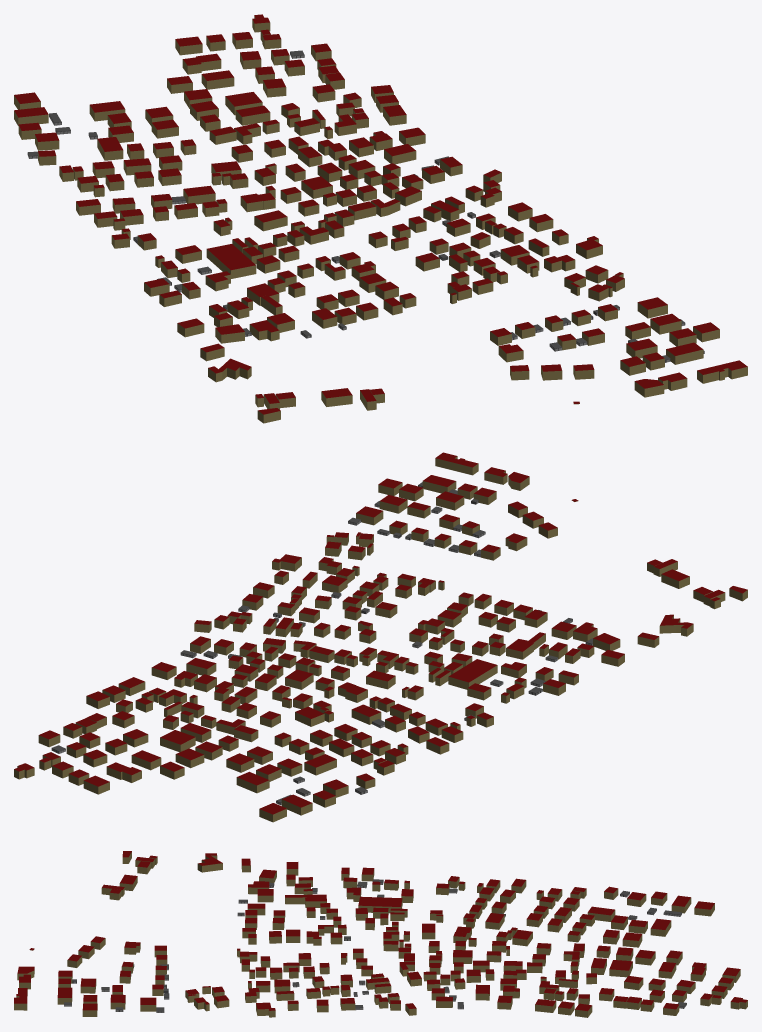
Rendered from Ingolstadt_Tile_10_9.obj.
The picture shows the model from 3 angles, top to bottom: view 1: azimuth 30°, elevation 25°; view 2: azimuth 150°, elevation 25°; view 3: azimuth 270°, elevation 25°; orthographic projection. The views are drawn at different scales.
Parts seen in each view (by area): view 1: Building Kita Am Blumenviertel, Building294; view 2: Building Kita Am Blumenviertel; view 3: Building Kita Am Blumenviertel, Building294, Building100, Building151, Building155.
Part boxes in pixels (x1,y1,x2,y2): Building Kita Am Blumenviertel: [206, 244, 256, 278]; Building294: [208, 358, 251, 382]; Building Kita Am Blumenviertel: [448, 659, 497, 689]; Building Kita Am Blumenviertel: [358, 896, 402, 913]; Building294: [197, 853, 222, 872]; Building100: [609, 960, 632, 977]; Building151: [587, 906, 615, 921]; Building155: [650, 918, 671, 936].
Bounding box in the file's own units: 385 × 7.5 × 745.
